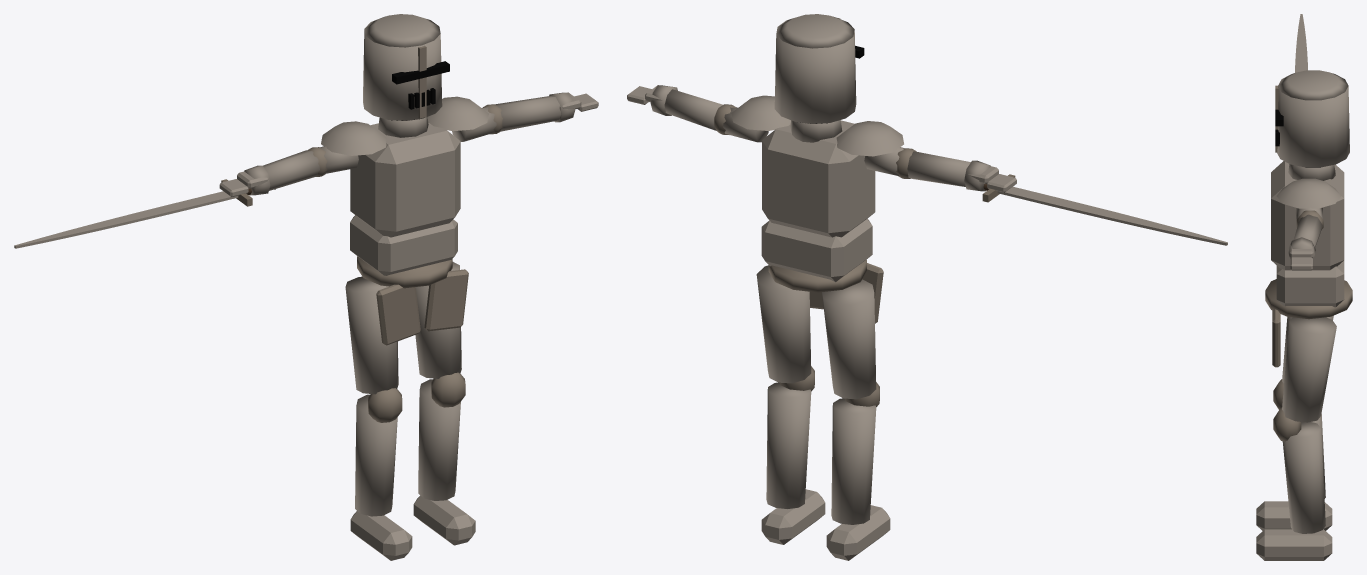
The model's file is rustning.glb.
The picture shows the model from 3 angles, left to right: view 1: azimuth 30°, elevation 25°; view 2: azimuth 150°, elevation 25°; view 3: azimuth 270°, elevation 25°; orthographic projection. The views are drawn at different scales.
Parts seen in each view (by area): view 1: Tom_Breast, Tom_Helm, Tom_Tassets, Tom_Greave.L, Tom_Greave.R, Tom_Cuisse.R, Tom_Fauld, Tom_Cuisse.L, Tom_Sword, Tom_Sabaton.L, Tom_Sabaton.R, Tom_Vambrace.L (+5 smaller); view 2: Tom_Breast, Tom_Helm, Tom_Greave.L, Tom_Greave.R, Tom_Cuisse.R, Tom_Cuisse.L, Tom_Fauld, Tom_Tassets, Tom_Sword, Tom_Vambrace.R, Tom_Sabaton.R, Tom_Sabaton.L (+5 smaller); view 3: Tom_Helm, Tom_Breast, Tom_Cuisse.L, Tom_Greave.L, Tom_Fauld, Tom_Sabaton.L, Tom_Tassets, Tom_Pauldron.L, Tom_Sabaton.R, Tom_Gauntlet.L, Tom_Vambrace.L, Tom_Sword (+3 smaller).
Part boxes in pixels (x1,y1,x2,y2): Tom_Breast: [350, 117, 460, 237]; Tom_Helm: [363, 14, 449, 120]; Tom_Tassets: [357, 256, 468, 345]; Tom_Greave.L: [418, 372, 465, 500]; Tom_Greave.R: [355, 388, 402, 516]; Tom_Cuisse.R: [345, 276, 398, 394]; Tom_Fauld: [350, 215, 457, 275]; Tom_Cuisse.L: [415, 262, 461, 378]; Tom_Sword: [14, 179, 275, 248]; Tom_Sabaton.L: [413, 495, 475, 545]; Tom_Sabaton.R: [350, 511, 412, 560]; Tom_Vambrace.L: [483, 96, 561, 134]; Tom_Breast: [762, 120, 875, 237]; Tom_Helm: [774, 14, 864, 123]; Tom_Greave.L: [766, 366, 814, 508]; Tom_Greave.R: [831, 382, 879, 524]; Tom_Cuisse.R: [822, 279, 876, 399]; Tom_Cuisse.L: [756, 265, 811, 383]; Tom_Fauld: [761, 219, 872, 282]; Tom_Tassets: [768, 260, 883, 323]; Tom_Sword: [982, 174, 1227, 245]; Tom_Vambrace.R: [896, 148, 970, 186]; Tom_Sabaton.R: [826, 505, 890, 560]; Tom_Sabaton.L: [761, 489, 825, 544]; Tom_Helm: [1275, 70, 1349, 167]; Tom_Breast: [1271, 161, 1344, 270]; Tom_Cuisse.L: [1282, 317, 1336, 422]; Tom_Greave.L: [1273, 407, 1325, 533]; Tom_Fauld: [1276, 260, 1344, 307]; Tom_Sabaton.L: [1256, 529, 1332, 560]; Tom_Tassets: [1265, 279, 1352, 367]; Tom_Pauldron.L: [1276, 178, 1341, 208]; Tom_Sabaton.R: [1256, 501, 1332, 530]; Tom_Gauntlet.L: [1288, 237, 1315, 270]; Tom_Vambrace.L: [1293, 210, 1323, 247]; Tom_Sword: [1295, 14, 1307, 72].
Bounding box in the file's own units: 2.16 × 1.81 × 0.3423.
